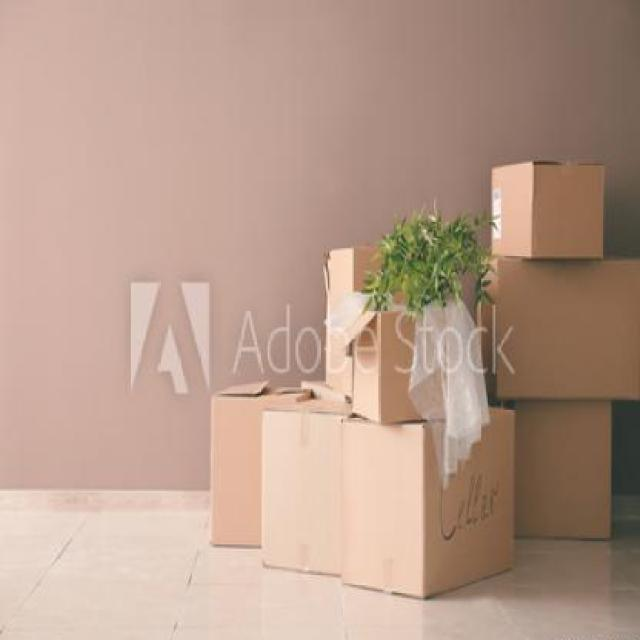box: (345, 422, 520, 589), (482, 258, 640, 420), (259, 415, 352, 612), (205, 381, 312, 552), (326, 249, 426, 401), (519, 405, 624, 543), (354, 308, 472, 428), (488, 164, 614, 274)
